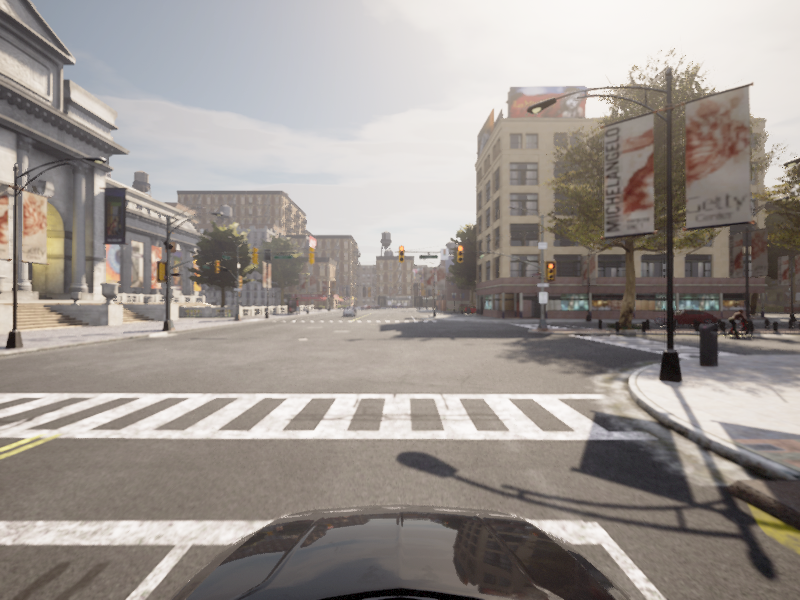vehicle: (650, 309, 720, 327), (719, 309, 757, 339)
